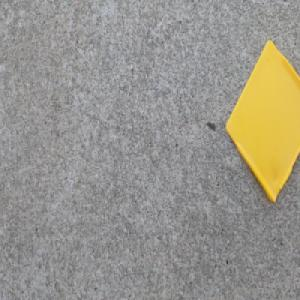PlasticPart: (224, 38, 300, 205)
